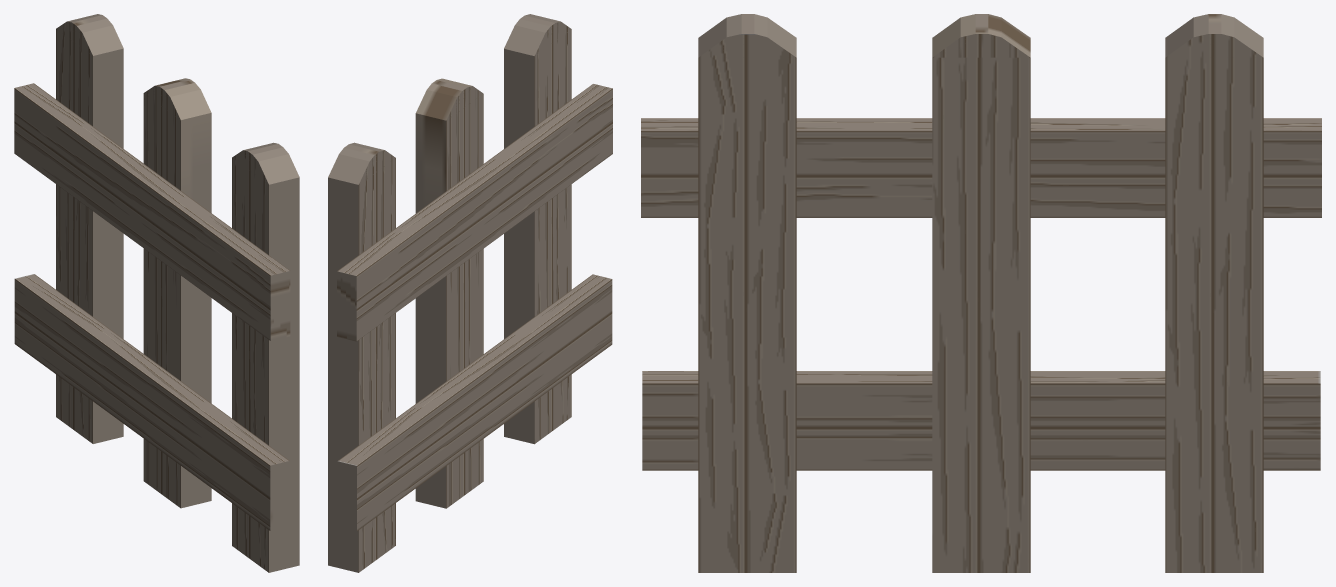
The model's file is Fence.fbx.
3 renders of one model, left to right at view 1: azimuth 30°, elevation 25°; view 2: azimuth 150°, elevation 25°; view 3: azimuth 270°, elevation 25°, orthographic. The views are drawn at different scales.
Visible parts, largest first — view 1: Cube; view 2: Cube; view 3: Cube.
Part boxes in pixels (x1,y1,x2,y2): Cube: (14, 14, 299, 572); Cube: (328, 14, 612, 572); Cube: (641, 14, 1321, 572).
Size of the model in its own units: 40.92 by 314 by 360.
